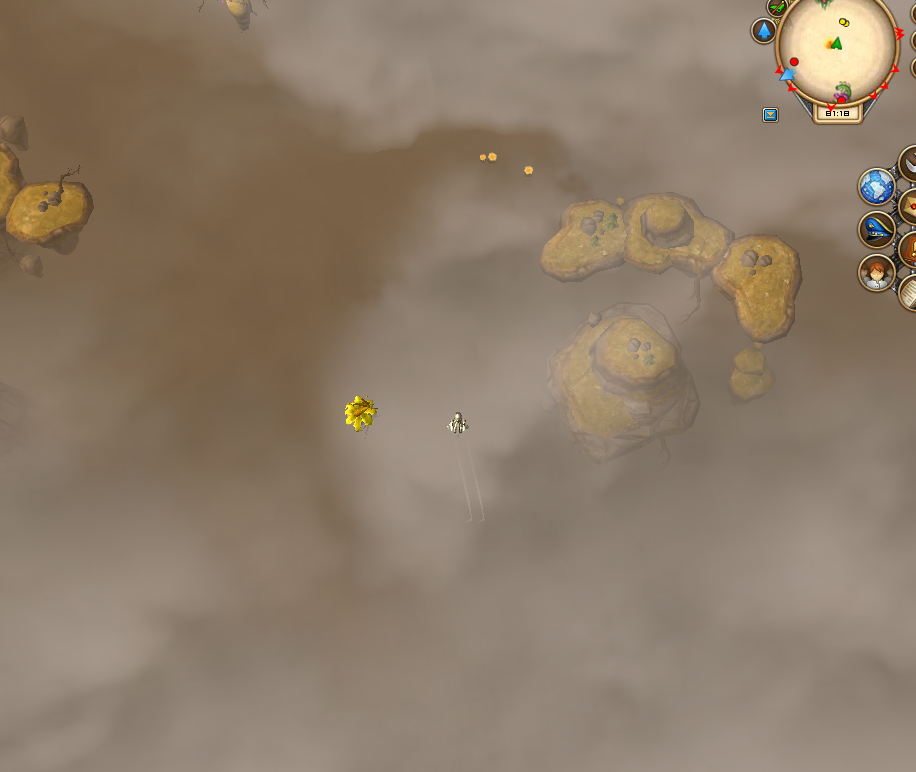dandelion-empty: (338, 391, 380, 438)
fluff: (518, 161, 538, 181), (486, 147, 501, 164), (476, 150, 490, 164)
